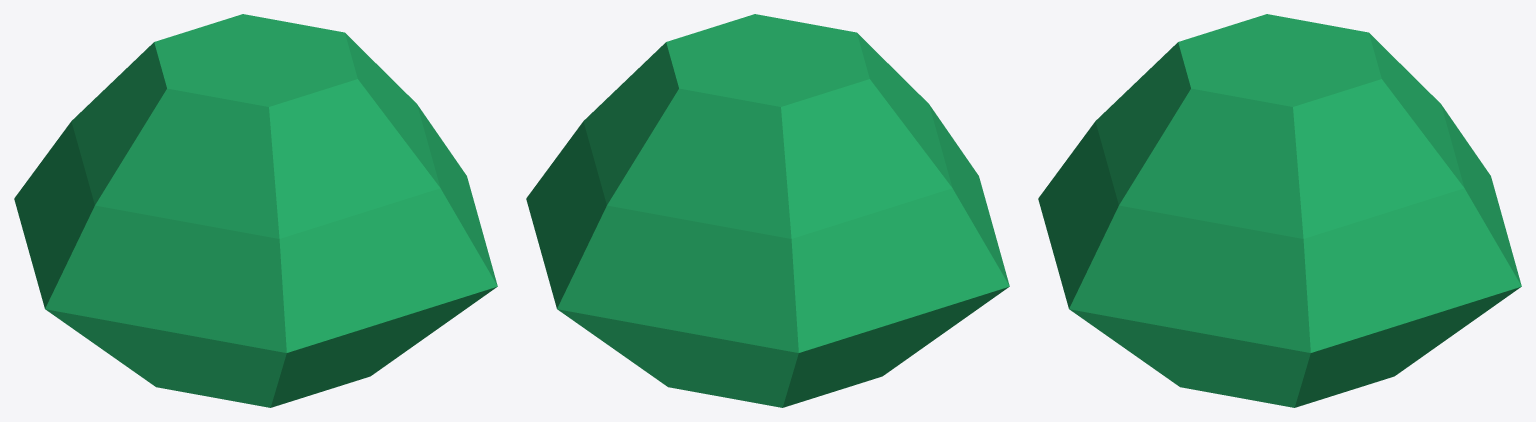
The model's file is EmeraldGem.fbx.
3 views of the same model, side by side, from view 1: azimuth 30°, elevation 25°; view 2: azimuth 150°, elevation 25°; view 3: azimuth 270°, elevation 25° (orthographic).
Parts seen in each view (by area): view 1: EmeraldGem; view 2: EmeraldGem; view 3: EmeraldGem.
Boxes of the visible parts, left/top/right/bottom form: EmeraldGem: left=14, top=14, right=497, bottom=407; EmeraldGem: left=526, top=14, right=1009, bottom=407; EmeraldGem: left=1038, top=14, right=1521, bottom=407.
Bounding box in the file's own units: 7.55 × 4.7 × 6.98.
